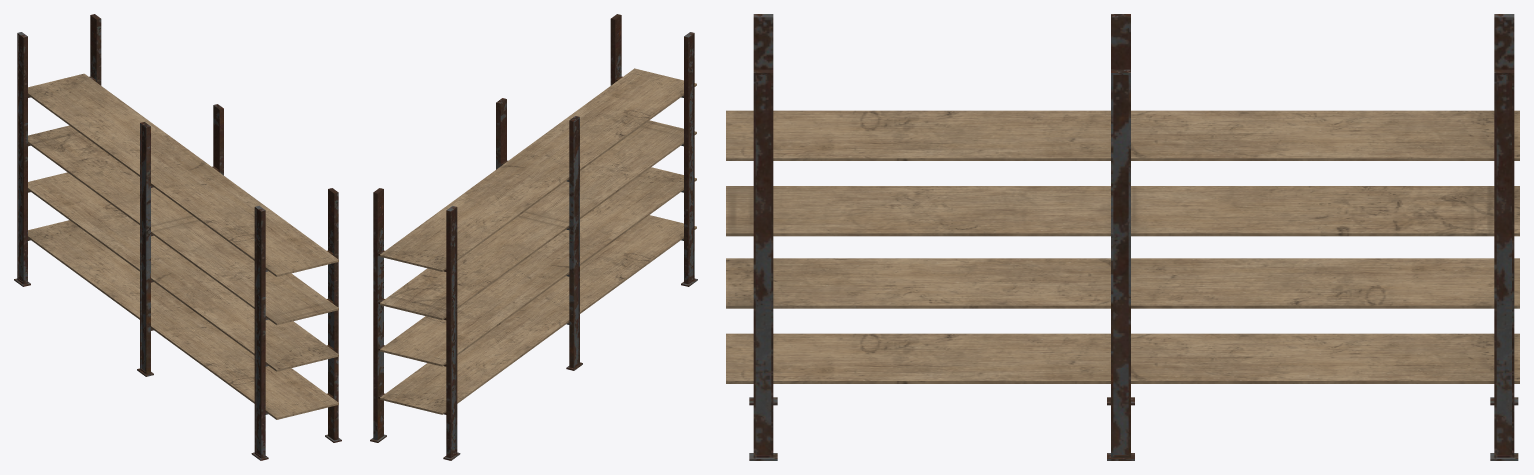
File: rack_big.FBX
3 views of the same model, side by side, from view 1: azimuth 30°, elevation 25°; view 2: azimuth 150°, elevation 25°; view 3: azimuth 270°, elevation 25° (orthographic). The views are drawn at different scales.
Parts seen in each view (by area): view 1: rack_big; view 2: rack_big; view 3: rack_big.
Part boxes in pixels (x1=…): rack_big: x1=14, y1=14, x2=341, y2=460; rack_big: x1=370, y1=14, x2=697, y2=460; rack_big: x1=726, y1=14, x2=1519, y2=460.
Size of the model in its own units: 28.77 by 84.1 by 157.
